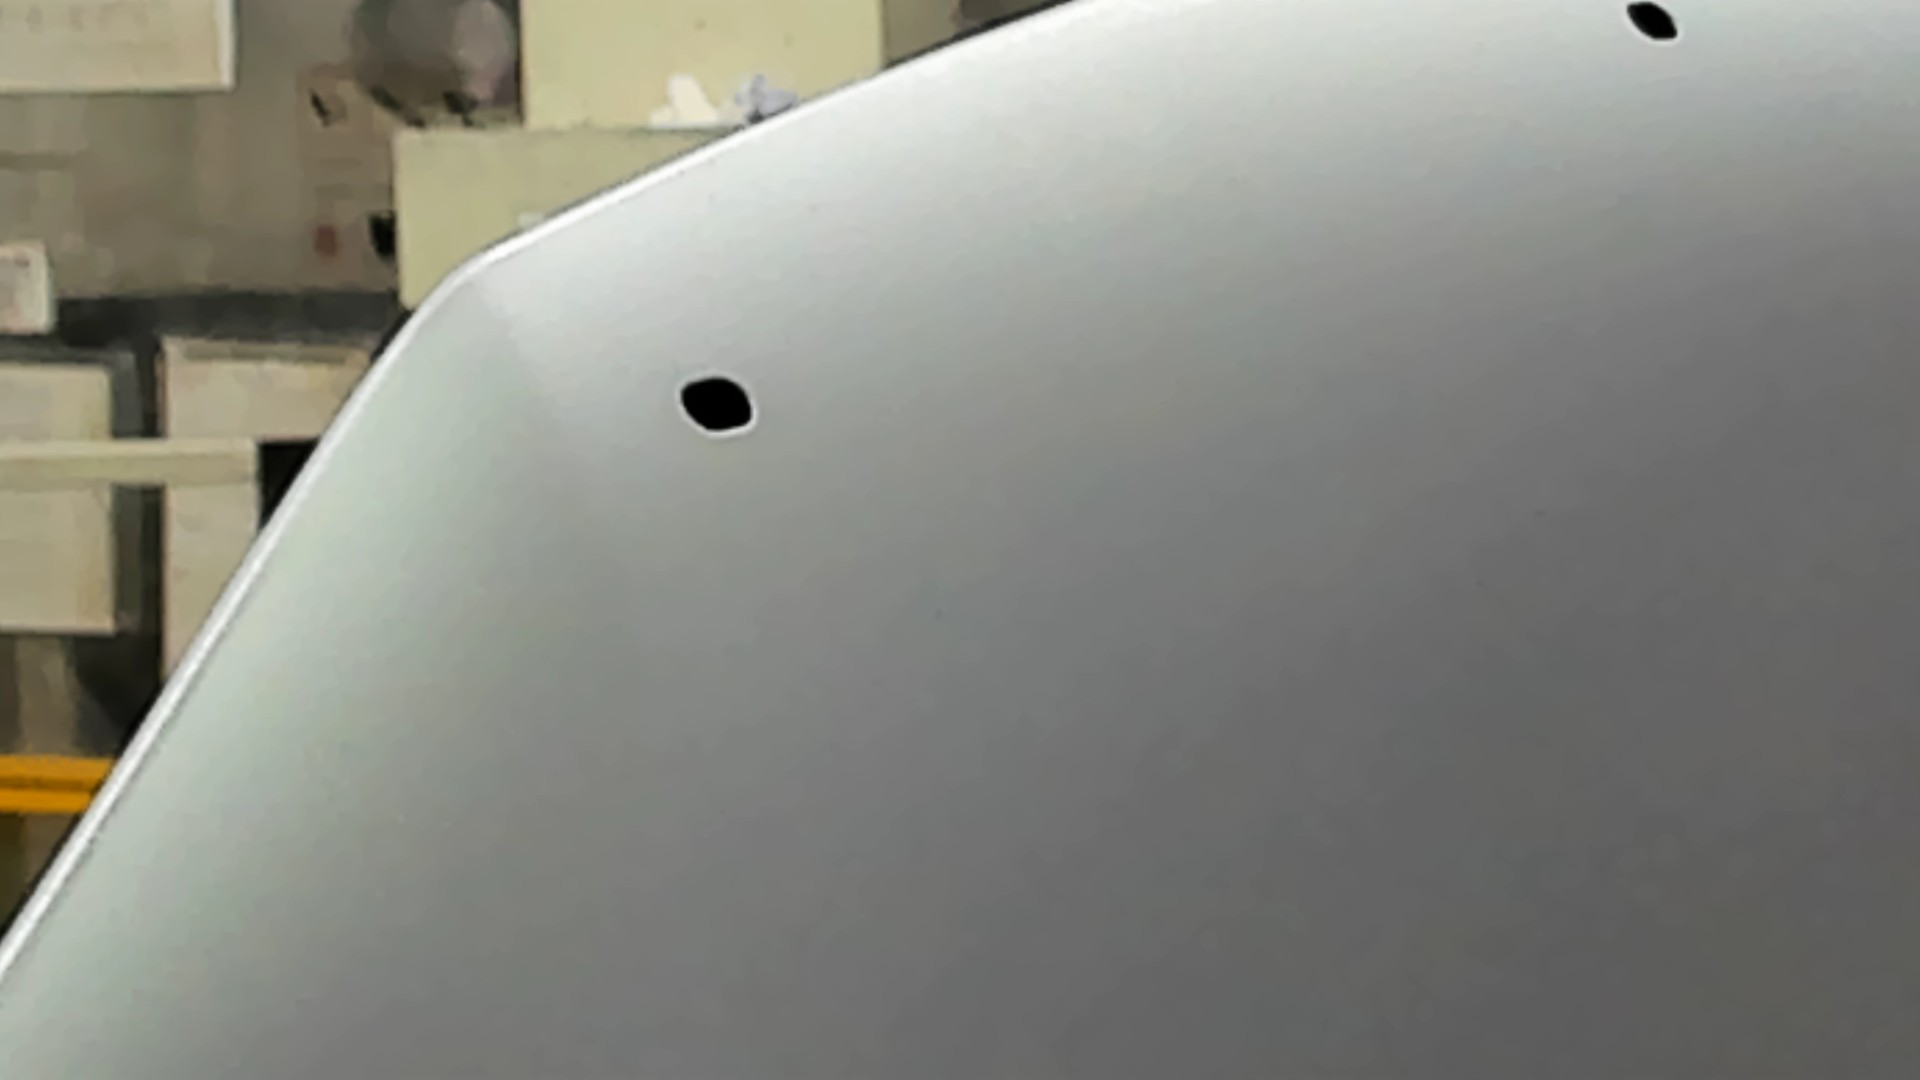amorfo: (675, 369, 764, 435), (1615, 1, 1684, 45)
